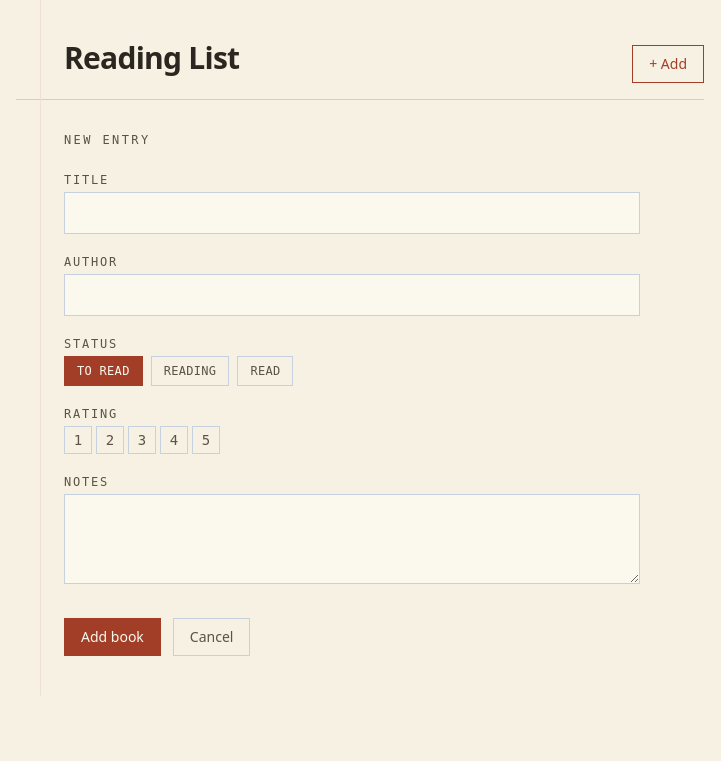
Reading List routes › shows validation errors and blocks submit when required fields are empty
Click the button "Add book".
click(112, 637)  # box [64, 618, 161, 656]
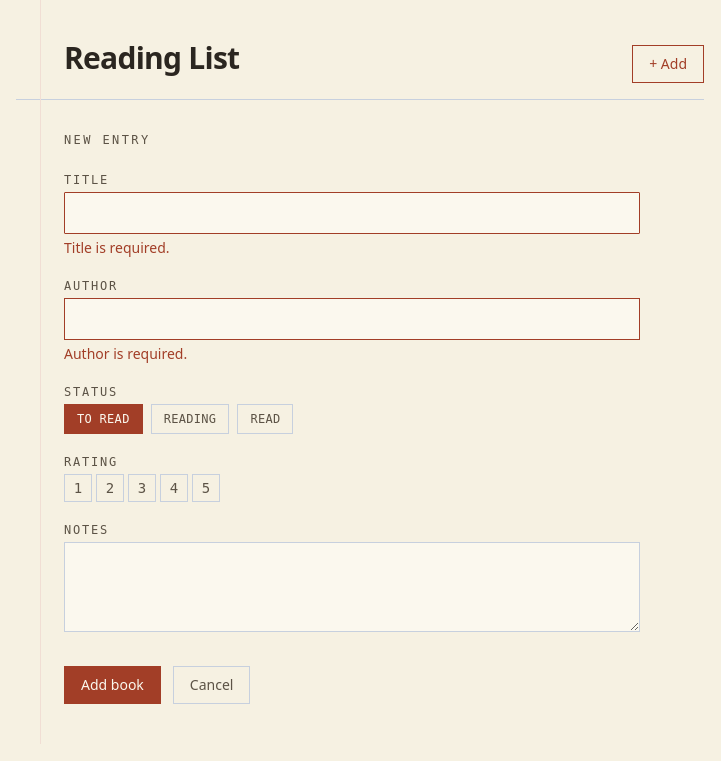
Expected: the heading "New entry" is shown, [64, 133, 151, 147]
Now the text "Title is required." is shown, box [64, 238, 170, 257]
Now the text "Author is required." is shown, box [64, 344, 187, 363]
